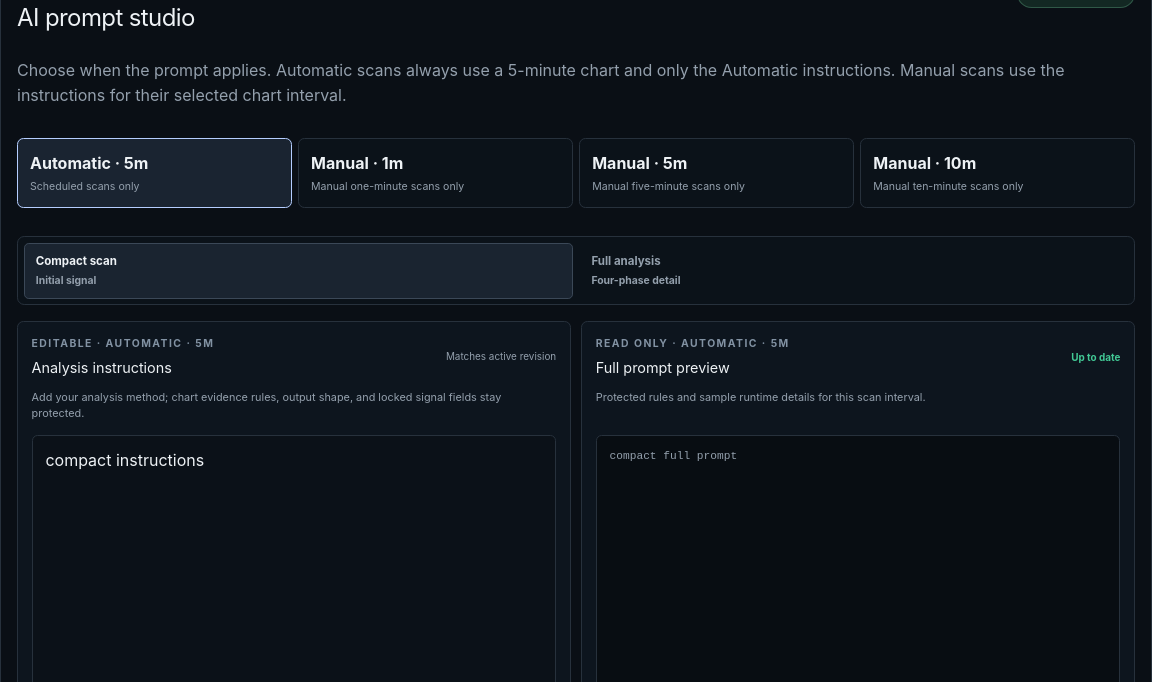
it: prompt studio › edits a manual interval without changing the automatic draft
The width and height of the screenshot is (1152, 682).
Click the button "Manual · 1m Manual one-minute scans only" at (357, 163), box [298, 138, 573, 208]
(page scrolled)
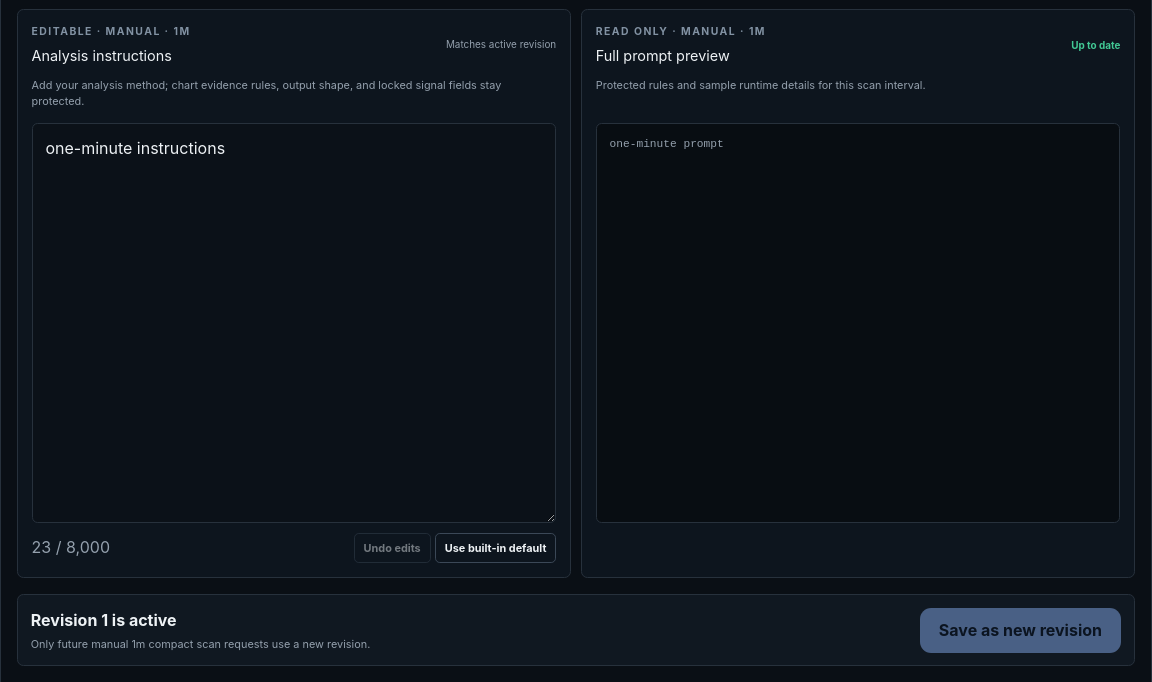
Check: the text named "Full prompt preview for Compact scan" reads "one-minute prompt", box [610, 138, 724, 150]
Replace the text in the text box named "Analysis instructions for Compact scan" with "new one-minute method" at (294, 323), box [32, 123, 556, 523]
(page scrolled)
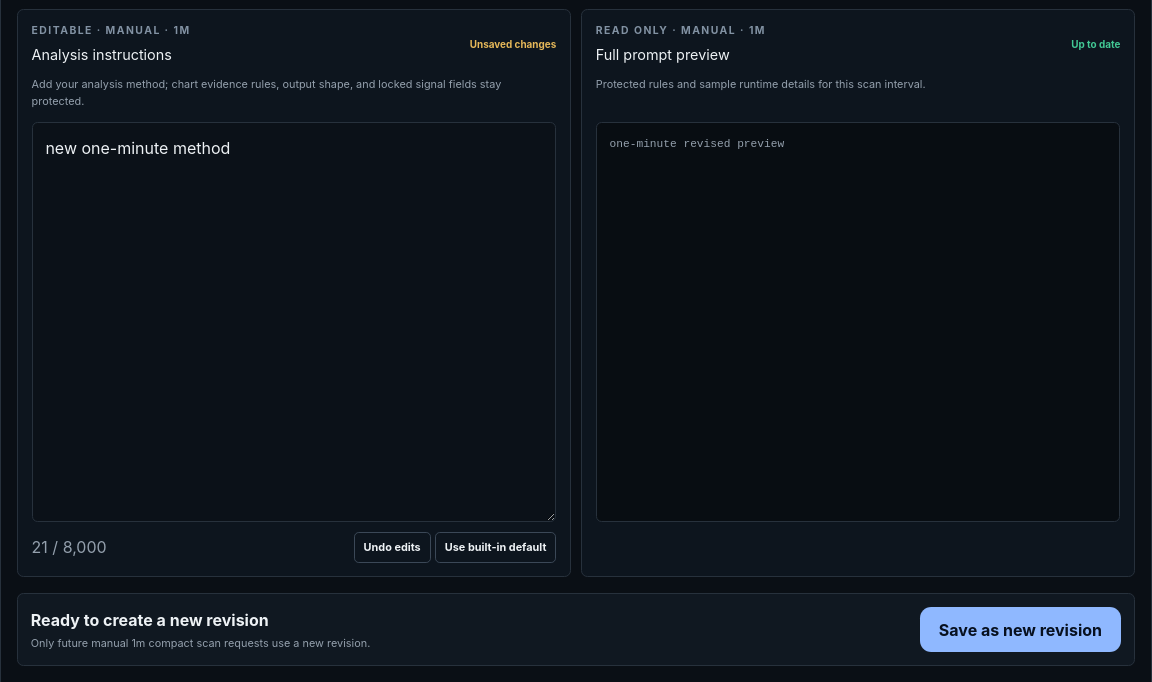
Check: the text named "Full prompt preview for Compact scan" reads "one-minute revised preview", box [610, 138, 784, 150]
Click the button "Save as new revision" at (1020, 630), box [920, 607, 1121, 652]
(page scrolled)
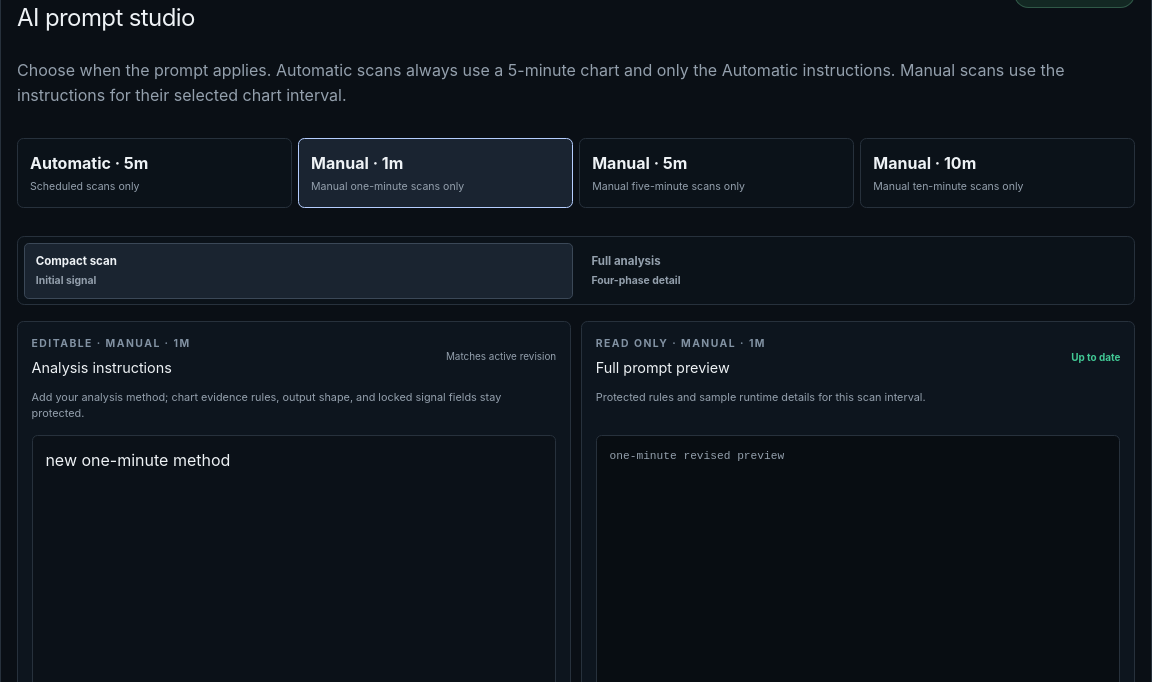
Click the button "Automatic · 5m Scheduled scans only" at (89, 163), box [17, 138, 292, 208]
(page scrolled)
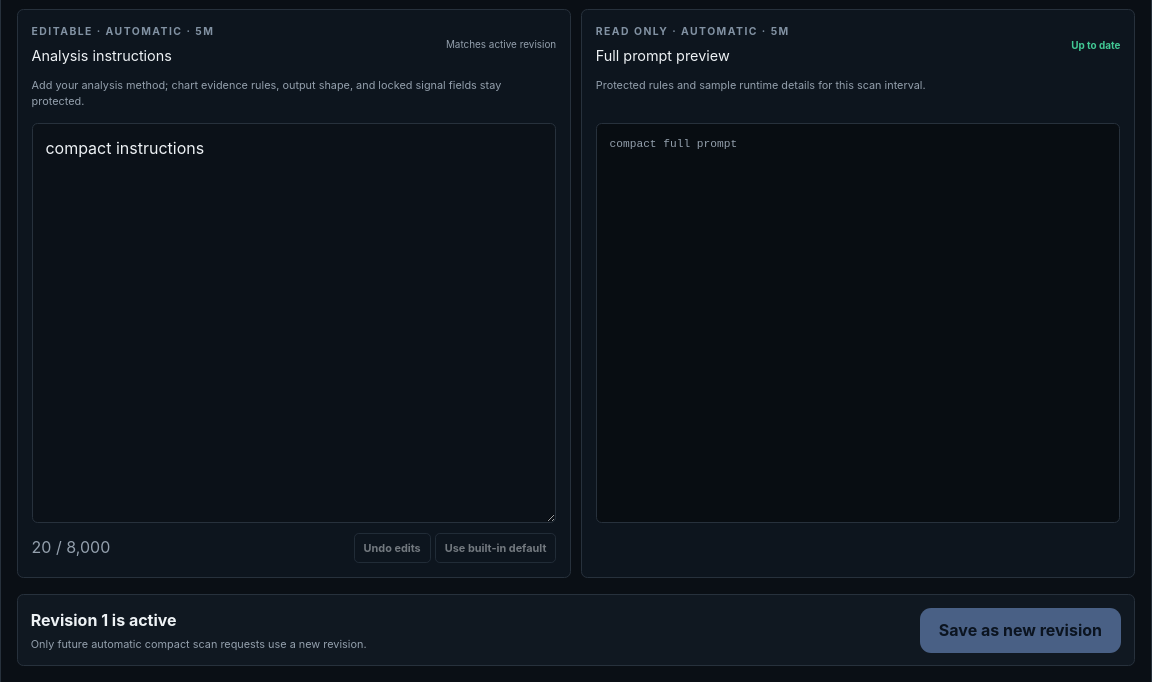
Check: the text box named "Analysis instructions for Compact scan" holds "compact instructions", box [32, 123, 556, 523]
